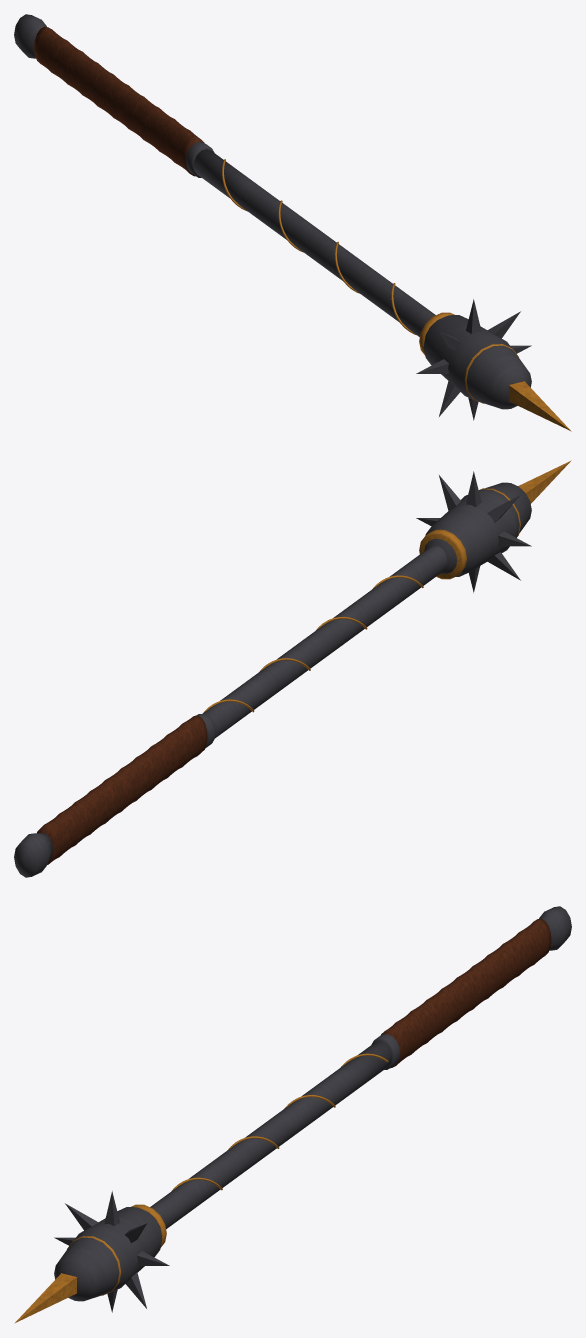
Rendered from weapon_inquisitors_nail.glb.
3 views of the same model, one above another, from view 1: azimuth 30°, elevation 25°; view 2: azimuth 150°, elevation 25°; view 3: azimuth 330°, elevation 25° (orthographic).
Parts seen in each view (by area): view 1: inquisitors_nail; view 2: inquisitors_nail; view 3: inquisitors_nail.
Part boxes in pixels (x1=…): inquisitors_nail: x1=14, y1=14, x2=571, y2=431; inquisitors_nail: x1=14, y1=460, x2=571, y2=877; inquisitors_nail: x1=14, y1=906, x2=571, y2=1323.
Bounding box in the file's own units: 0.11 × 0.11 × 0.895.
3 materials, 3 textured.
